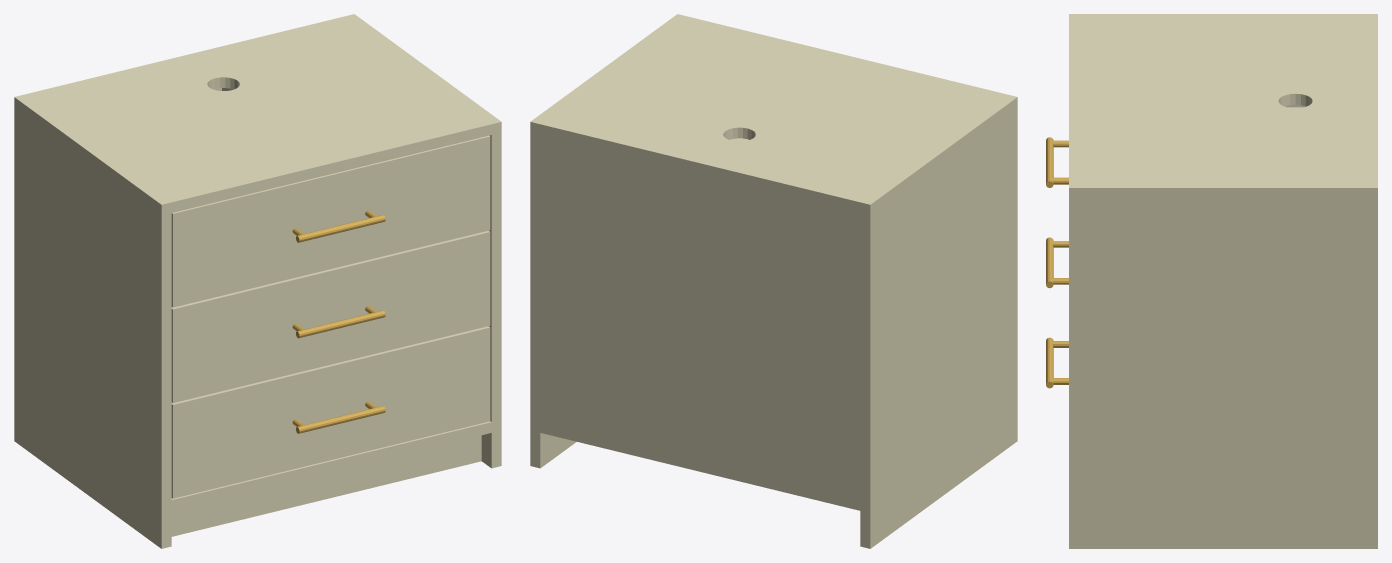
Rendered from vanity-unit-bowes-park.glb.
3 renders of one model, left to right at view 1: azimuth 30°, elevation 25°; view 2: azimuth 150°, elevation 25°; view 3: azimuth 270°, elevation 25°, orthographic. The views are drawn at different scales.
Visible parts, largest first — view 1: Side left, Top, with the hole for the basin waste, Drawer front, bottom, Drawer front, middle, Drawer front, top, Plinth, set back, Side right, Bottom, Handle, bottom: Bar, Handle, middle: Bar, Handle, top: Bar; view 2: Back, 6 mm, Side left, Top, with the hole for the basin waste, Side right; view 3: Side right, Top, with the hole for the basin waste, Side left.
Boxes of the visible parts, box(x1,y1,x2,y2) form: Side left: box(14, 94, 171, 548); Top, with the hole for the basin waste: box(25, 16, 491, 212); Drawer front, bottom: box(171, 326, 490, 498); Drawer front, middle: box(171, 230, 490, 402); Drawer front, top: box(171, 135, 490, 307); Plinth, set back: box(171, 435, 481, 536); Side right: box(344, 14, 501, 468); Bottom: box(171, 421, 491, 510); Handle, bottom: Bar: box(296, 406, 385, 433); Handle, middle: Bar: box(296, 310, 385, 338); Handle, top: Bar: box(296, 215, 385, 242); Back, 6 mm: box(540, 135, 860, 510); Side left: box(860, 94, 1017, 548); Top, with the hole for the basin waste: box(540, 16, 1006, 212); Side right: box(530, 14, 687, 468); Side right: box(1069, 183, 1377, 548); Top, with the hole for the basin waste: box(1069, 19, 1377, 182); Side left: box(1069, 14, 1377, 19).
Bounding box in the file's own units: 0.6 × 0.58 × 0.4835.
